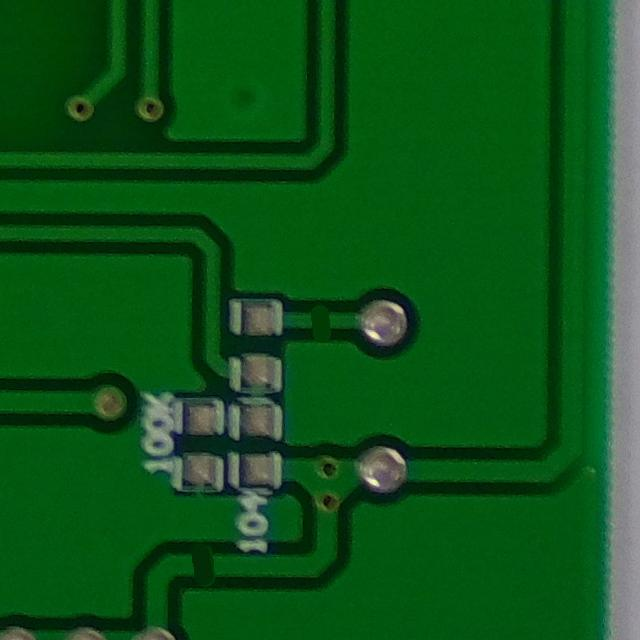open_circuit: (299, 303, 342, 338)
